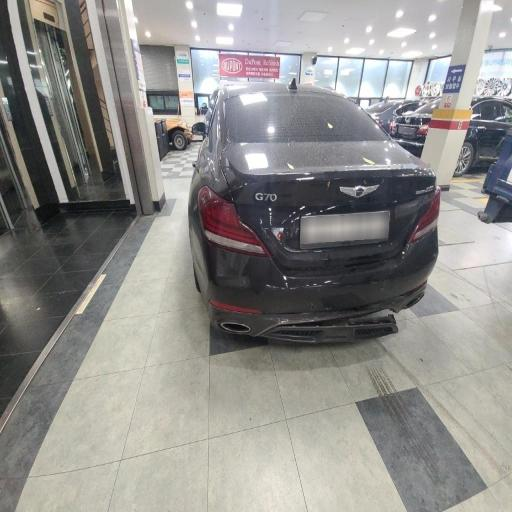broken: (218, 272, 408, 384)
scratch: (253, 190, 371, 291)
